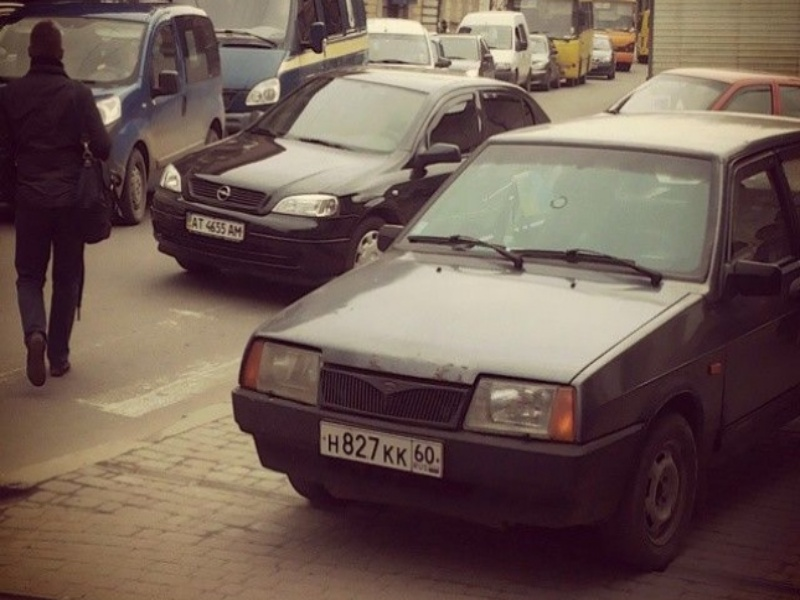car: (233, 110, 800, 564), (151, 69, 550, 281), (1, 5, 225, 226), (219, 1, 367, 135), (588, 67, 800, 121), (488, 1, 594, 85), (458, 11, 533, 89), (593, 1, 636, 71), (436, 35, 495, 77), (531, 34, 559, 91), (592, 33, 614, 77)
person: (1, 20, 113, 388)
plate: (319, 421, 442, 477)
